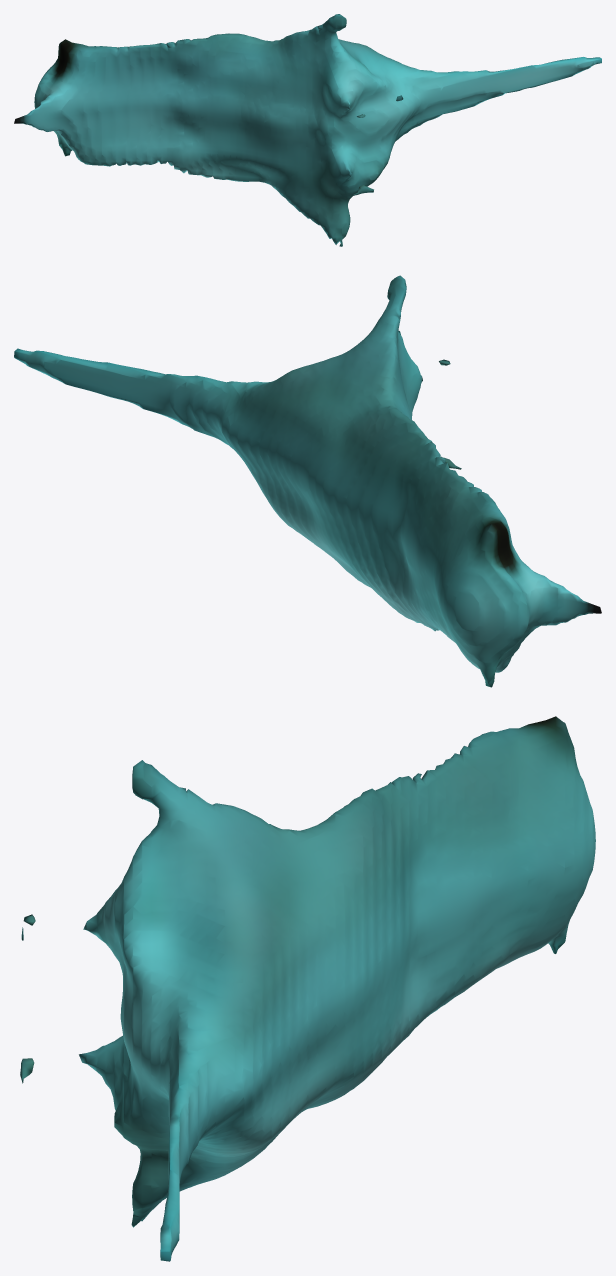
3 renders of one model, top to bottom at view 1: azimuth 30°, elevation 25°; view 2: azimuth 150°, elevation 25°; view 3: azimuth 270°, elevation 25°, orthographic. The views are drawn at different scales.
Parts seen in each view (by area): view 1: plyFile; view 2: plyFile; view 3: plyFile.
Part boxes in pixels (box(x1,y1,x2,y2)): plyFile: box(14, 14, 601, 246); plyFile: box(14, 275, 601, 687); plyFile: box(20, 716, 595, 1261).
Size of the model in its own units: 196 by 86.37 by 97.15.
